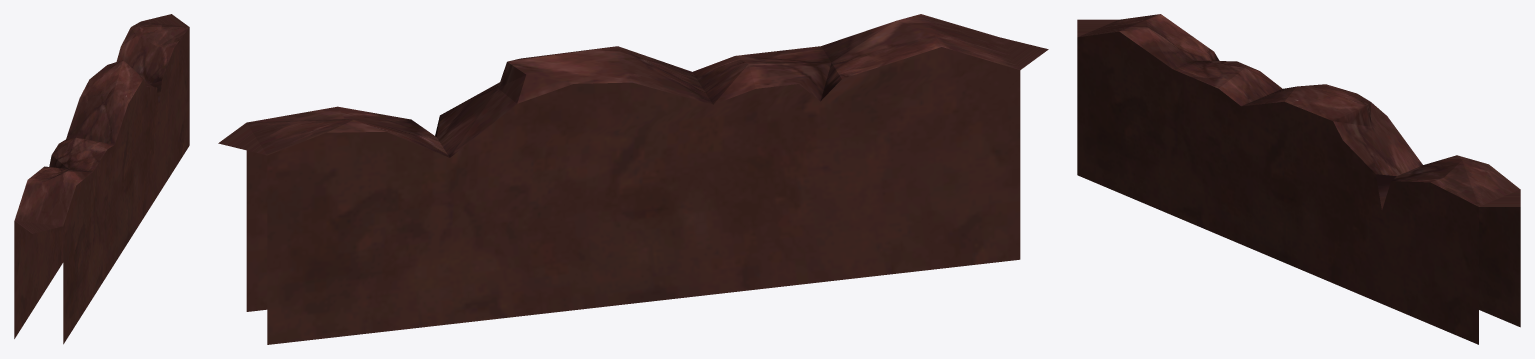
The model's file is lava_broken_diagonal_01.fbx.
3 renders of one model, left to right at view 1: azimuth 30°, elevation 25°; view 2: azimuth 150°, elevation 25°; view 3: azimuth 270°, elevation 25°, orthographic. The views are drawn at different scales.
Parts seen in each view (by area): view 1: obj1.022; view 2: obj1.022; view 3: obj1.022.
Part boxes in pixels (x1=…): obj1.022: x1=14, y1=14, x2=189, y2=344; obj1.022: x1=218, y1=14, x2=1048, y2=344; obj1.022: x1=1077, y1=14, x2=1520, y2=344.
Size of the model in its own units: 4 by 1.73 by 4.
